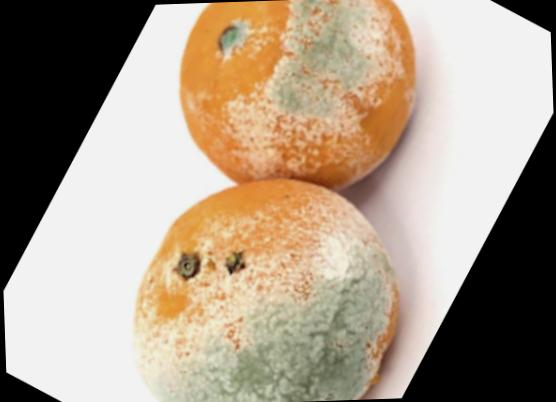Orange Rotten: (117, 169, 410, 402), (158, 0, 431, 202)
